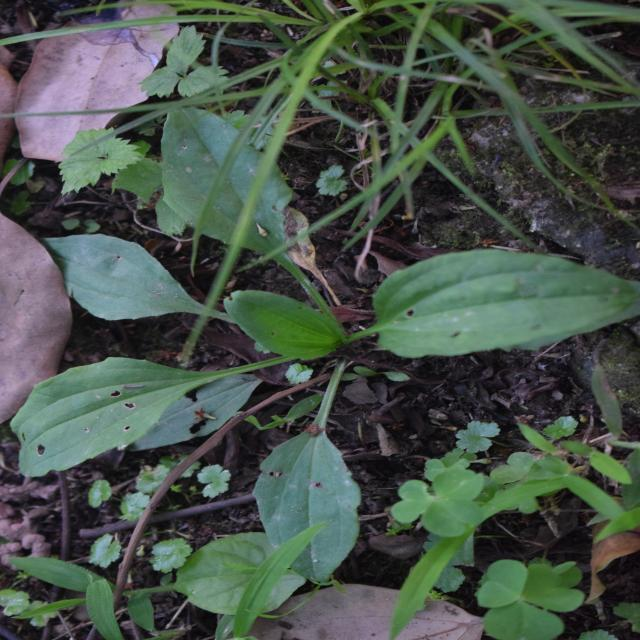plantain: (103, 39, 502, 604)
